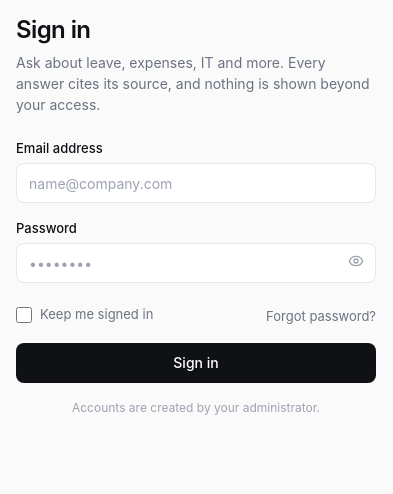
Test: LoginForm Component › shows generic error on failure
Type "bad@company.com" into the field labelled "Email address" at (196, 183), box top-left (16, 163), bottom-right (376, 203)
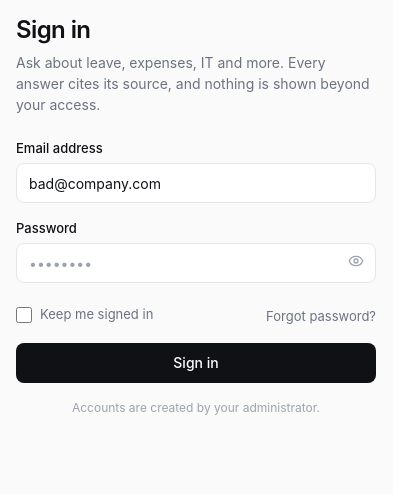
Type "wrongpass" into the password field labelled "Password" at (196, 263), box top-left (16, 243), bottom-right (376, 283)
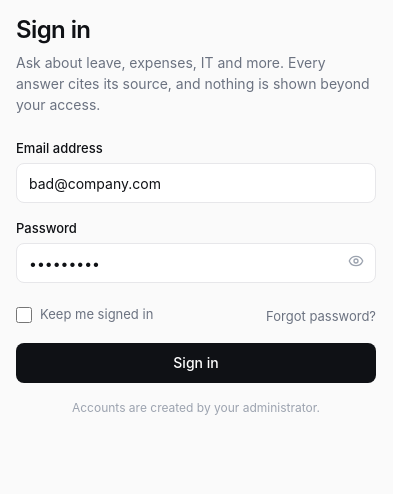
Click the button "Sign in" at (196, 363), box top-left (16, 343), bottom-right (376, 383)
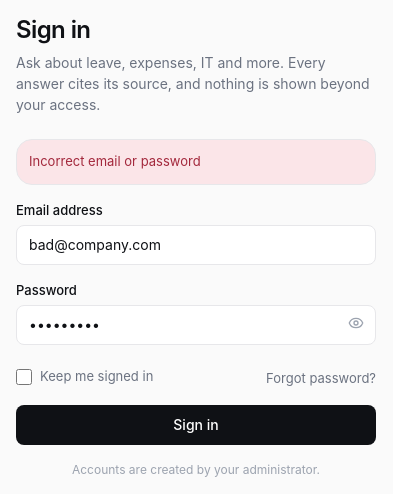
Check: the text "Incorrect email or password" is shown, box top-left (16, 139), bottom-right (376, 184)
